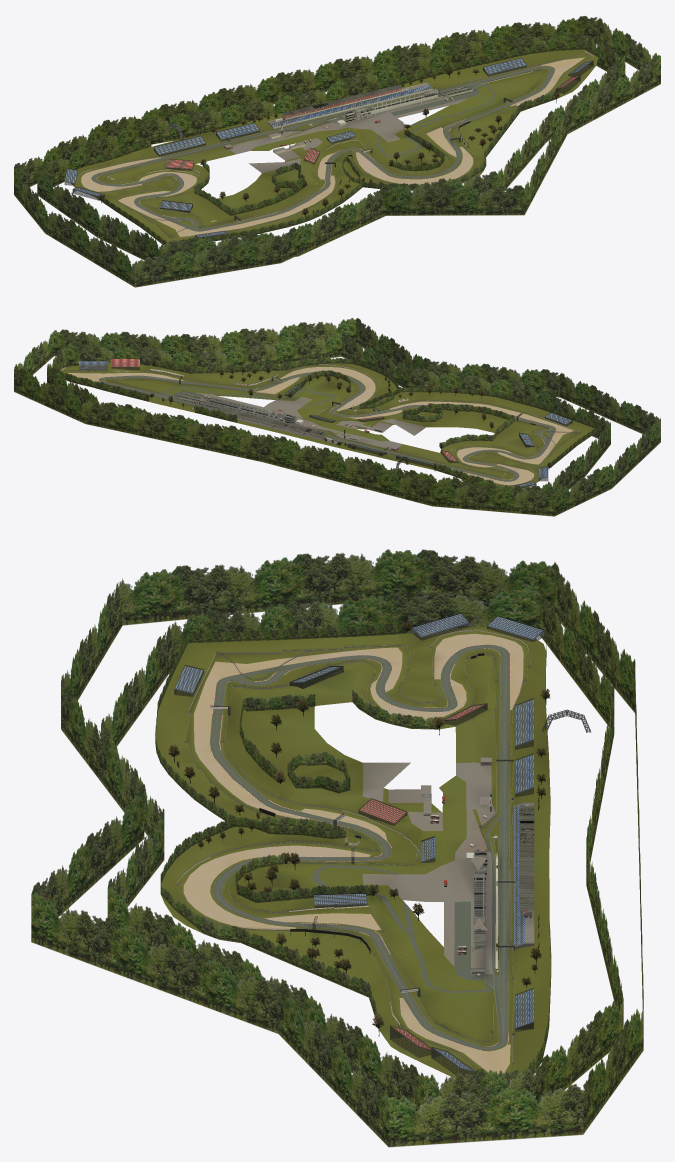
File: race_driver_grid_ds_-_fuji_speedway.glb
3 views of the same model, one above another, from view 1: azimuth 30°, elevation 25°; view 2: azimuth 150°, elevation 25°; view 3: azimuth 270°, elevation 25° (orthographic). The views are drawn at different scales.
Visible parts, largest first — view 1: DC_set_treeLine, DC_set9, DC_set10, DC_set19.007, DC_set6.015, DC_set20.010, DC_set34.012, DC_set5.008, DC_set33.006, DC_set14.013, DC_set25.007, DC_set22.006 (+26 smaller); view 2: DC_set_treeLine, DC_set9, DC_set19.007, DC_set20.010, DC_set13.008, DC_set25.007, DC_set10, DC_set33.006, DC_set34.012, DC_set21.009, DC_set19.003, DC_set9.001 (+32 smaller); view 3: DC_set_treeLine, DC_set20.010, DC_set19.007, DC_set10, DC_set21.009, DC_set9, DC_set13.008, DC_set33.006, DC_set34.012, DC_set25.007, DC_set5.008, DC_set6.015 (+40 smaller).
Part boxes in pixels (box(x1,y1,x2,y2)): DC_set_treeLine: box(14, 16, 660, 287); DC_set9: box(449, 95, 516, 159); DC_set10: box(389, 106, 476, 150); DC_set19.007: box(247, 173, 355, 217); DC_set6.015: box(518, 49, 598, 82); DC_set20.010: box(217, 188, 303, 231); DC_set34.012: box(210, 116, 316, 150); DC_set5.008: box(465, 56, 533, 94); DC_set33.006: box(151, 131, 235, 163); DC_set14.013: box(345, 142, 417, 173); DC_set25.007: box(144, 178, 208, 209); DC_set22.006: box(154, 200, 230, 228); DC_set_treeLine: box(14, 318, 660, 516); DC_set9: box(173, 370, 286, 395); DC_set19.007: box(400, 392, 483, 427); DC_set20.010: box(458, 395, 538, 432); DC_set13.008: box(328, 366, 397, 401); DC_set25.007: box(475, 434, 533, 462); DC_set10: box(218, 381, 314, 400); DC_set33.006: box(381, 444, 451, 470); DC_set34.012: box(323, 425, 393, 457); DC_set21.009: box(515, 408, 595, 444); DC_set19.003: box(400, 386, 484, 421); DC_set9.001: box(190, 363, 286, 373); DC_set_treeLine: box(31, 549, 643, 1147); DC_set20.010: box(155, 706, 326, 762); DC_set19.007: box(165, 743, 362, 818); DC_set10: box(310, 874, 443, 960); DC_set21.009: box(158, 640, 282, 714); DC_set9: box(275, 945, 456, 998); DC_set13.008: box(161, 827, 292, 886); DC_set33.006: box(455, 703, 548, 762); DC_set34.012: box(439, 755, 550, 830); DC_set25.007: box(292, 668, 440, 705); DC_set5.008: box(448, 981, 550, 1033); DC_set6.015: box(412, 1027, 546, 1080).
Size of the model in its own units: 2273 by 154 by 1083.
33 materials, 32 textured.
